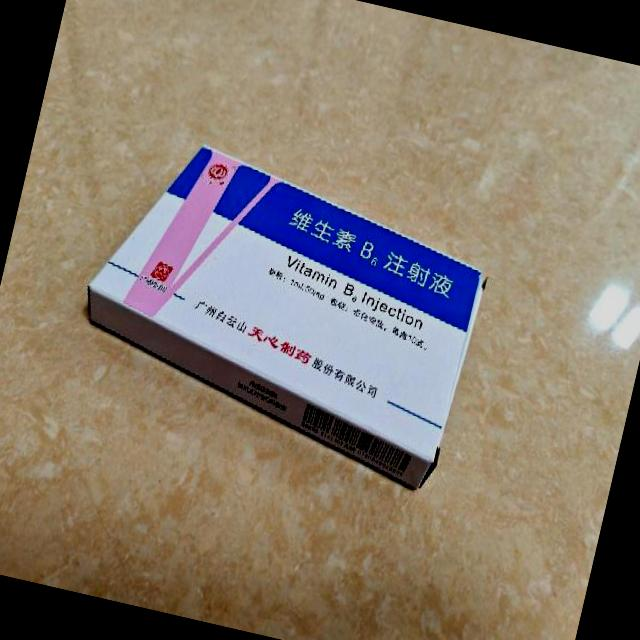box: (61, 124, 504, 496)
